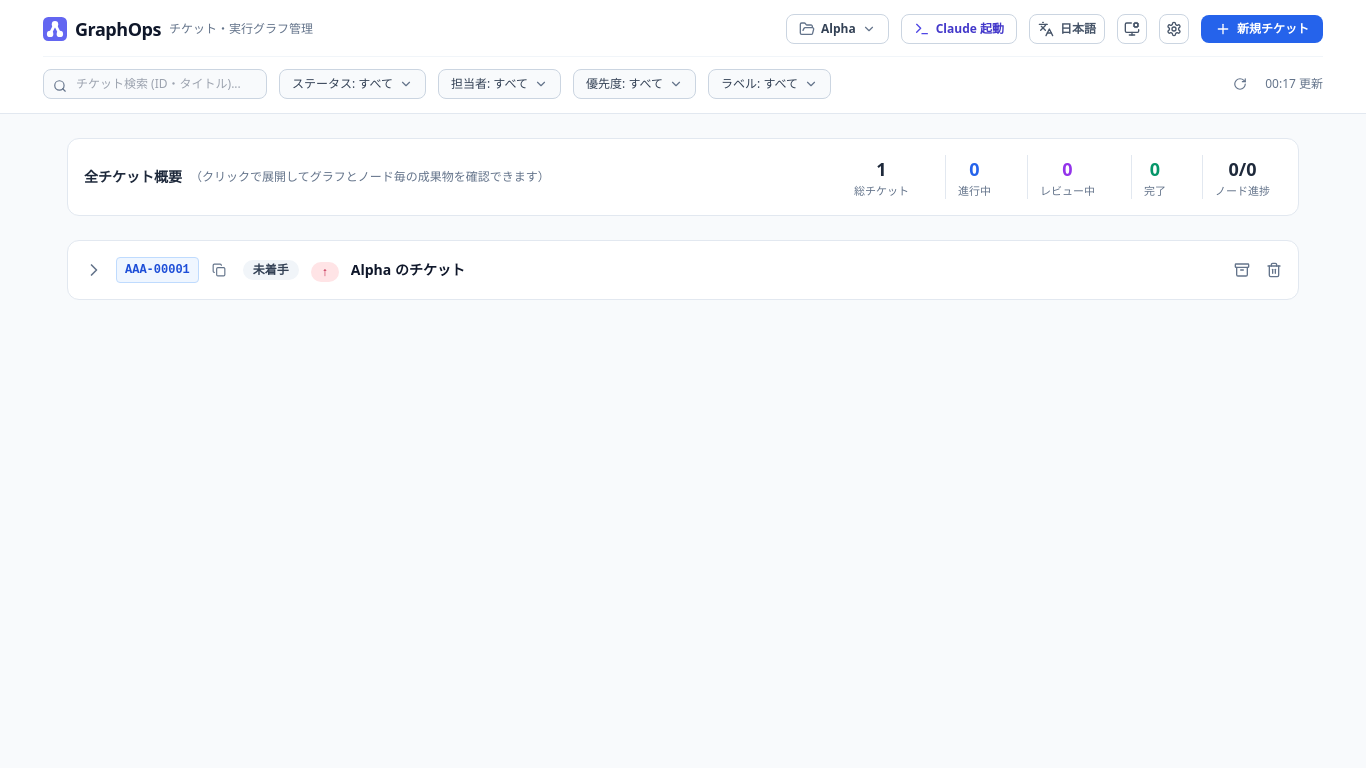
Test case: project switcher accessibility › aria-expanded › goes back to "false" when the menu closes by a backdrop click
The width and height of the screenshot is (1366, 768).
Expected: the text "AAA-00001" is shown, [116, 257, 199, 283]
Click the button "Alpha".
click(837, 29)  # box [786, 14, 889, 44]
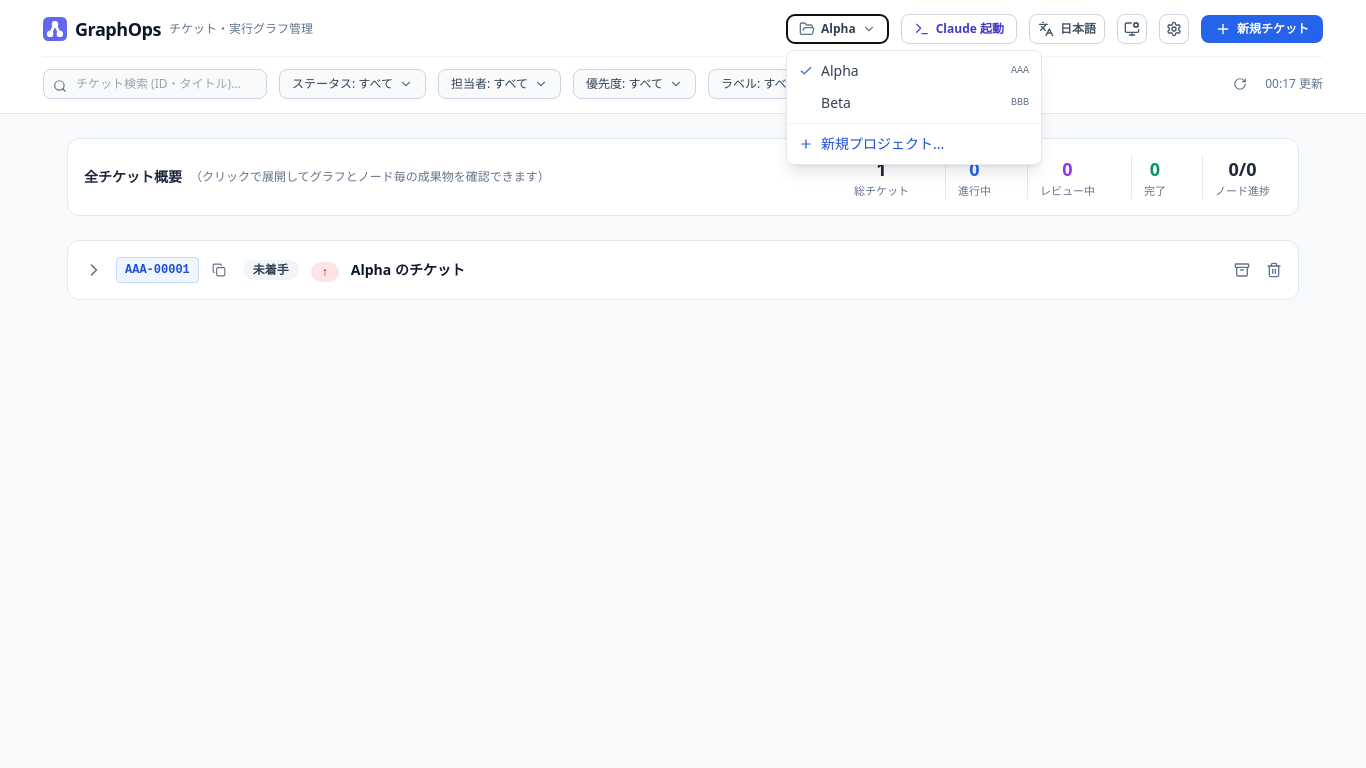
Click the element with test id "project-switcher-overlay".
click(683, 384)  # box [0, 0, 1365, 767]
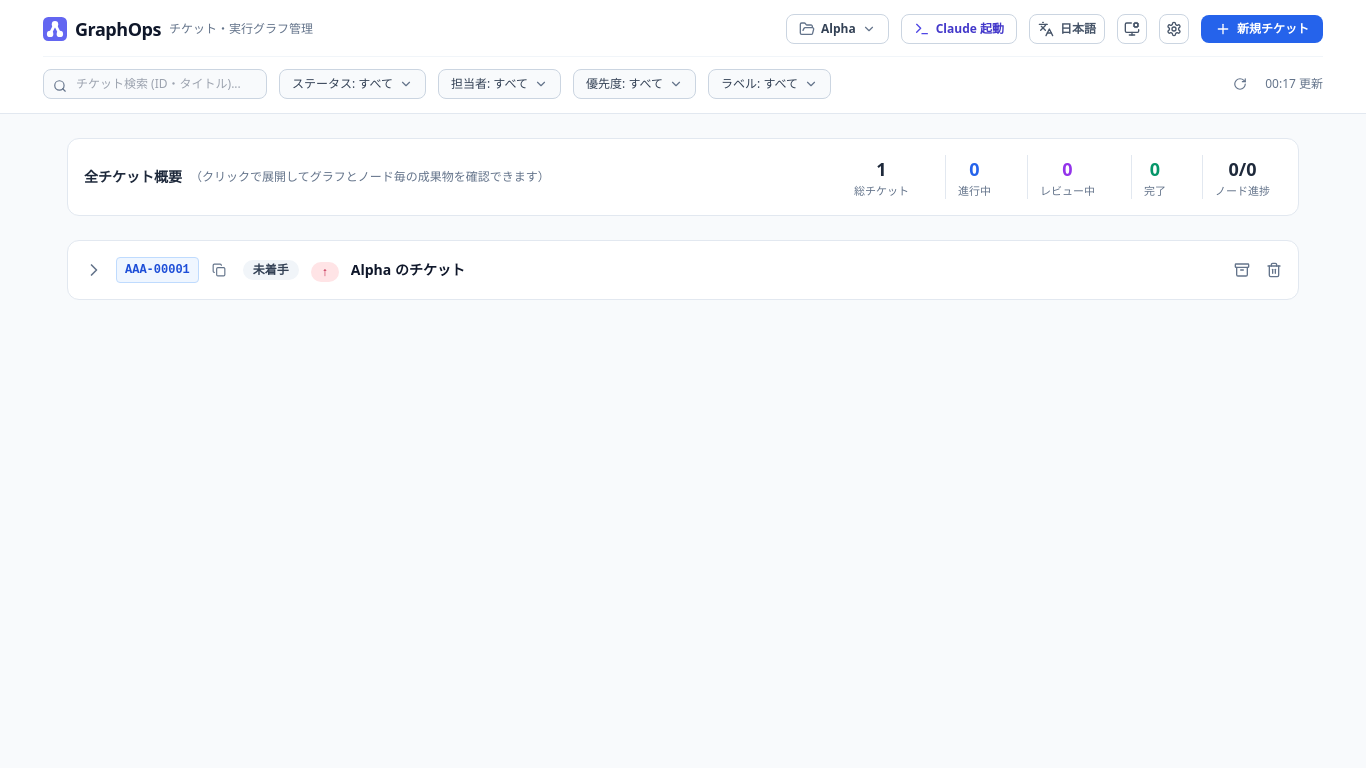
Expected: the dialog "プロジェクトの切り替え" is gone
